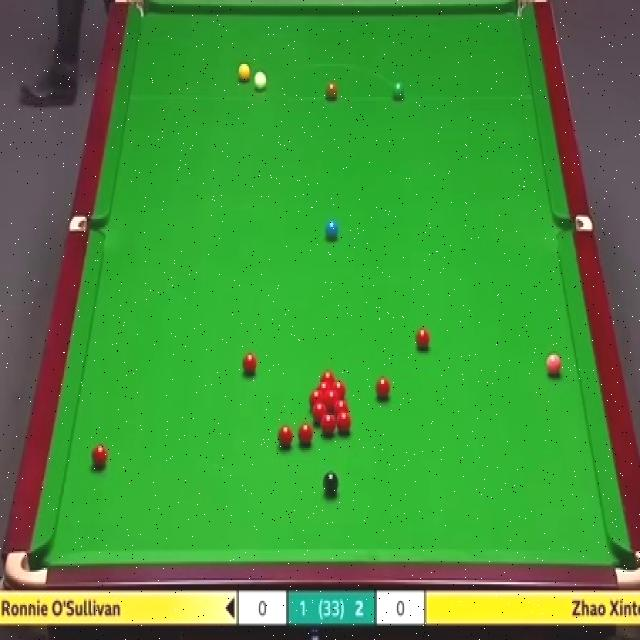black-ball: (323, 470, 339, 496)
blue-ball: (324, 218, 338, 238)
brown-ball: (324, 82, 338, 100)
green-ball: (391, 78, 406, 103)
pink-ball: (544, 352, 562, 377)
red-ball: (374, 375, 391, 402), (296, 424, 312, 449), (278, 422, 293, 448), (92, 445, 108, 468), (243, 352, 257, 377), (416, 327, 430, 351), (322, 413, 337, 435), (312, 401, 326, 424), (326, 389, 340, 412), (336, 413, 351, 433), (308, 390, 324, 408), (331, 380, 345, 399), (334, 401, 349, 416), (316, 380, 332, 393), (321, 369, 336, 381)
white-ball: (254, 68, 268, 94)
yellow-ball: (238, 63, 252, 83)
